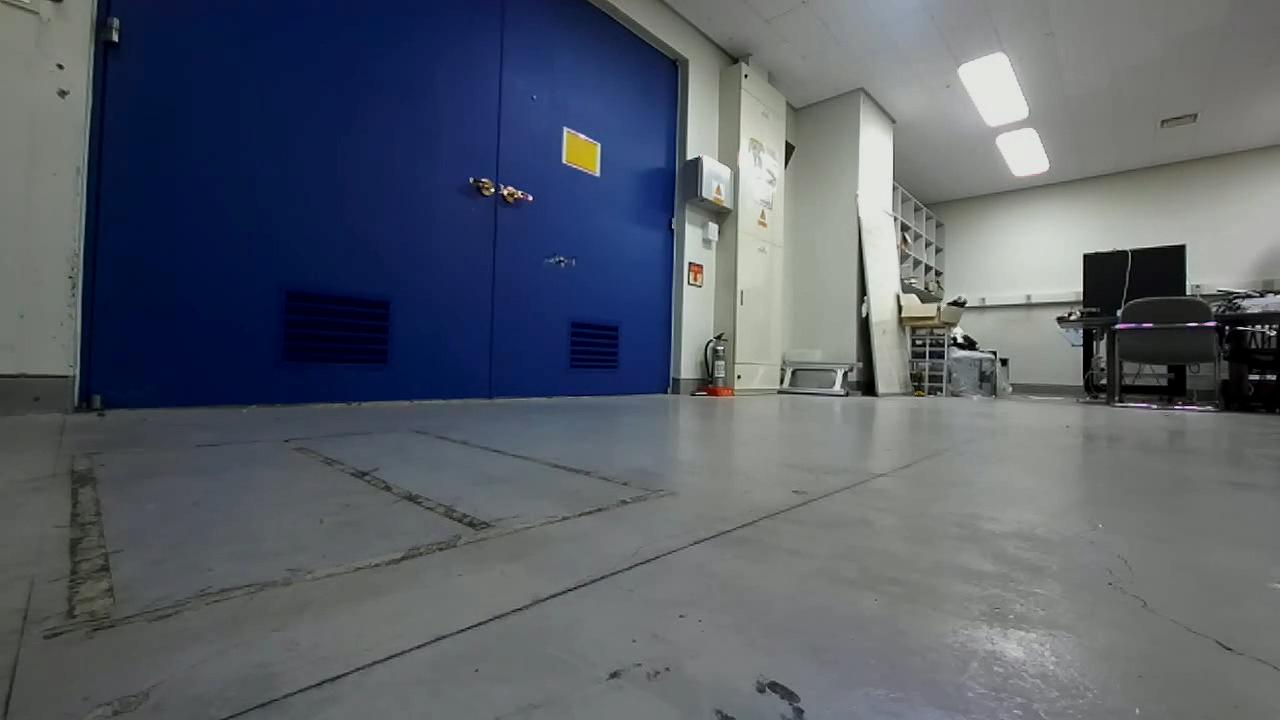crazyflie: (534, 247, 586, 275)
